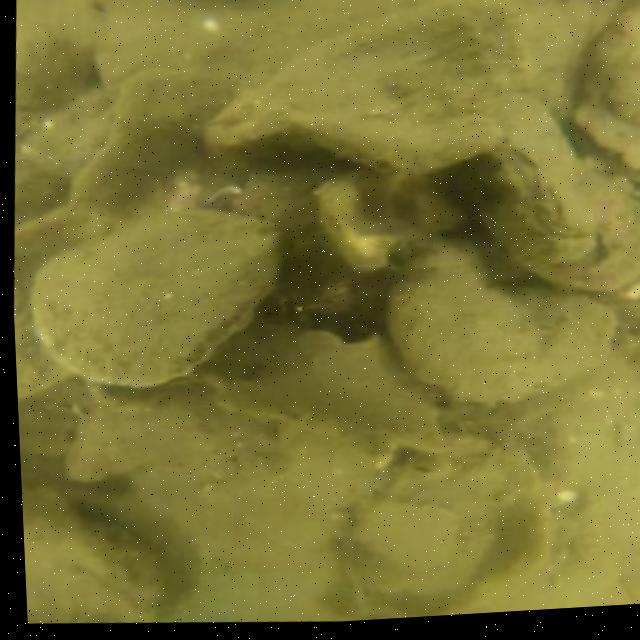Oyster-Closed: (23, 210, 279, 385)
Oyster-Indeterminate: (211, 4, 531, 172), (381, 233, 618, 402), (469, 102, 640, 290), (21, 480, 167, 623), (579, 0, 640, 162)
